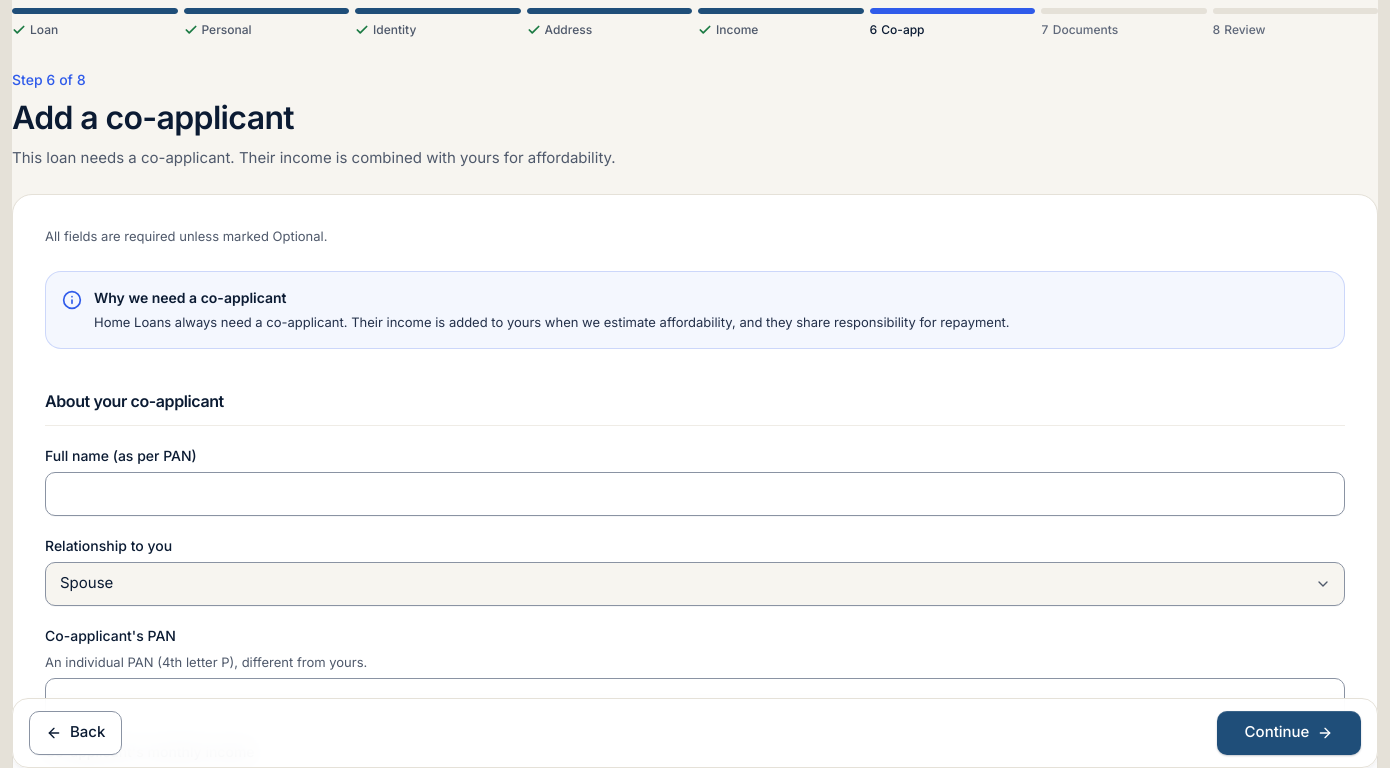
Scenario: Step 6 — co-applicant › requires the co-applicant consent and signature
This screenshot has width=1390, height=768.
Step 1. Click the button "Continue" → (1289, 733), box [1217,711,1361,755]
(page scrolled)
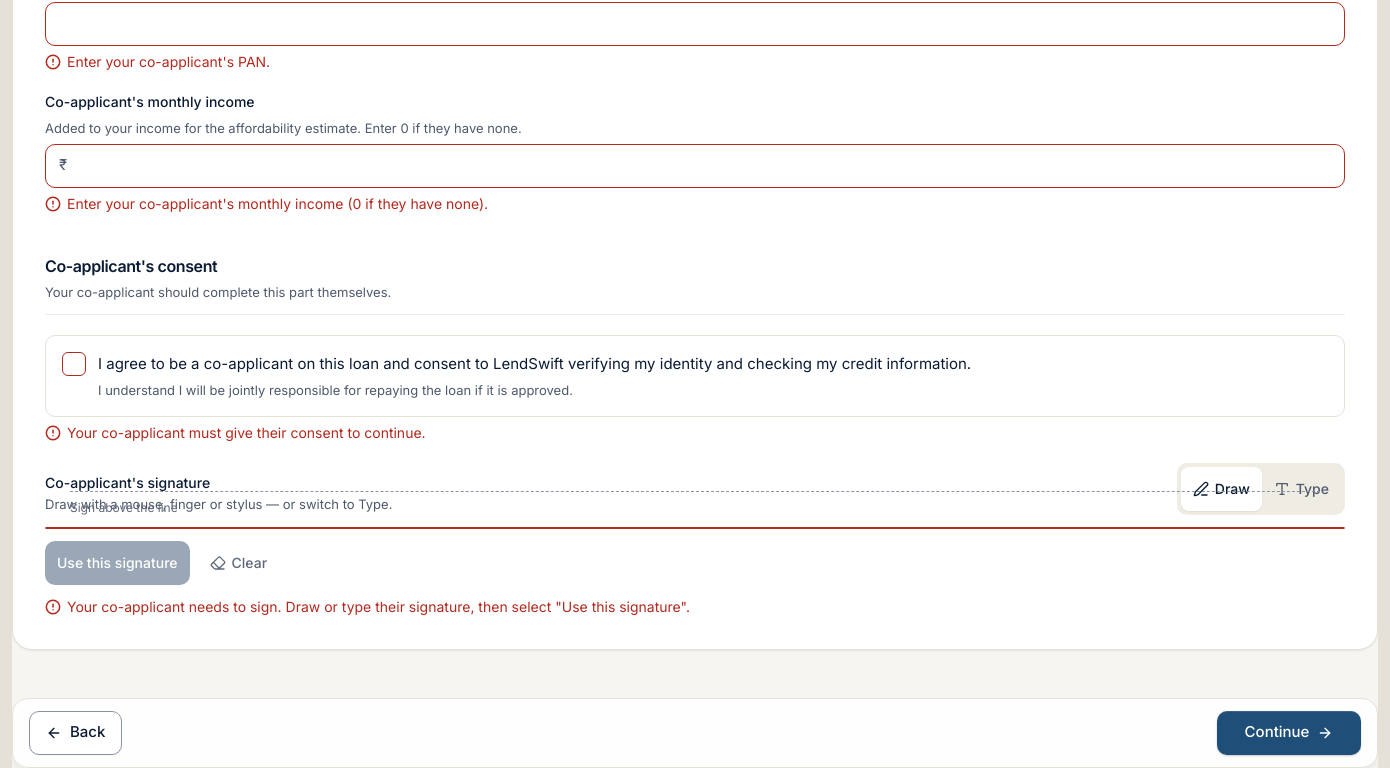
Expected: the text "Your co-applicant must give their consent to continue." is shown, [67,422,426,442]
Expected: the text "Your co-applicant needs to sign" is shown, [67,598,690,614]
